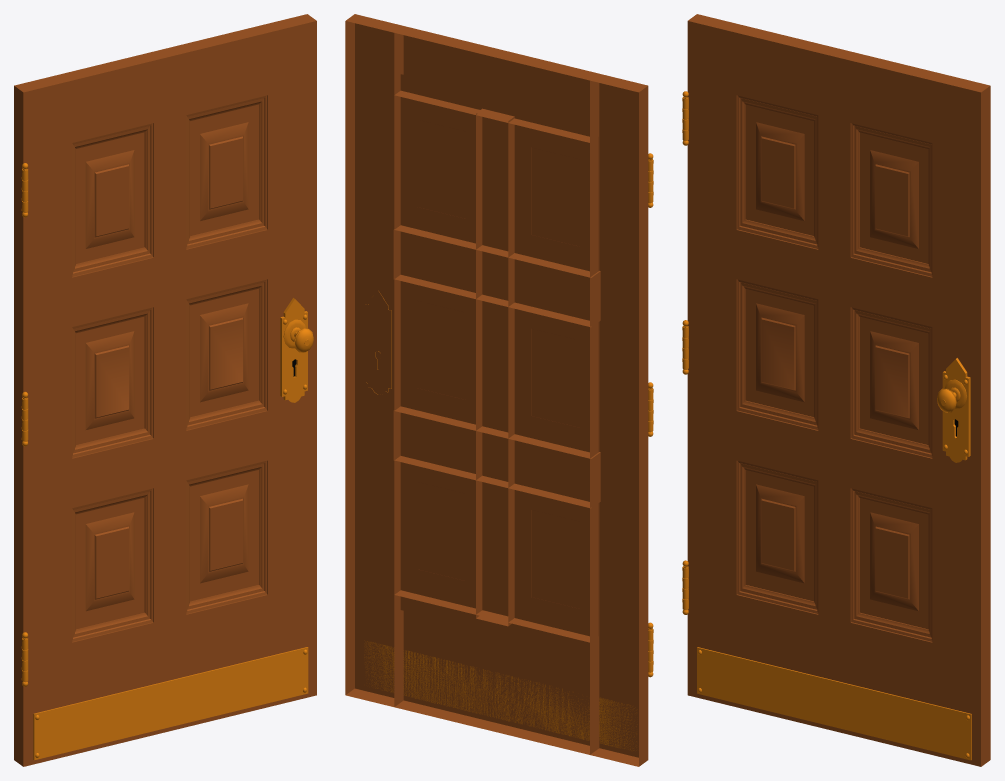
Rendered from Door.fbx.
3 views of the same model, side by side, from view 1: azimuth 30°, elevation 25°; view 2: azimuth 150°, elevation 25°; view 3: azimuth 330°, elevation 25° (orthographic).
Visible parts, largest first — view 1: DOOR.LWO; view 2: DOOR.LWO; view 3: DOOR.LWO.
Part boxes in pixels (x1,y1,x2,y2): DOOR.LWO: (14, 14, 316, 766); DOOR.LWO: (345, 14, 653, 766); DOOR.LWO: (682, 14, 990, 766).
Bounding box in the file's own units: 87.28 × 190 × 11.94.
